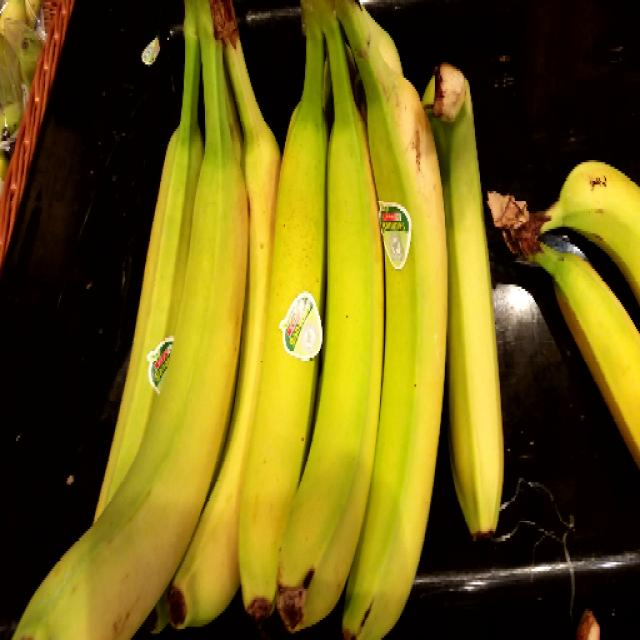banana: (12, 0, 270, 640), (243, 0, 443, 640), (486, 162, 640, 489), (422, 52, 519, 555)
